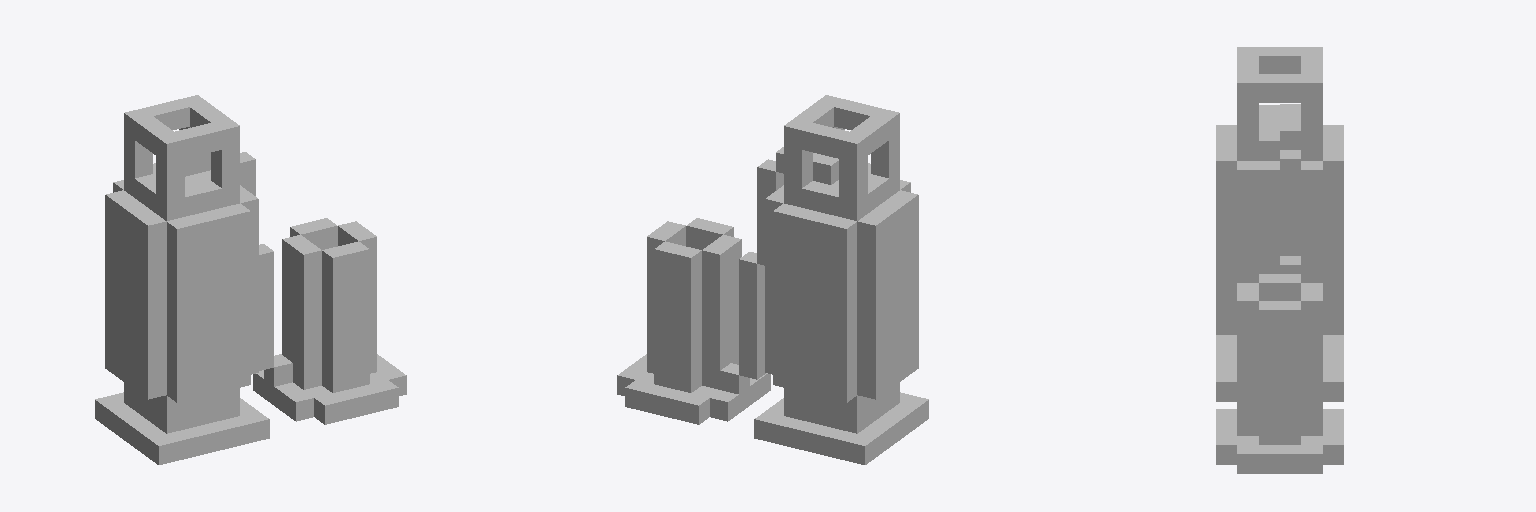
File: hand_air_compressor.obj
3 views of the same model, side by side, from view 1: azimuth 30°, elevation 25°; view 2: azimuth 150°, elevation 25°; view 3: azimuth 270°, elevation 25° (orthographic).
Parts seen in each view (by area): view 1: node_0_0_0; view 2: node_0_0_0; view 3: node_0_0_0.
Part boxes in pixels (left/top/right/bottom): node_0_0_0: left=95, top=95, right=406, bottom=464; node_0_0_0: left=617, top=95, right=928, bottom=464; node_0_0_0: left=1216, top=47, right=1343, bottom=473.
Bounding box in the file's own units: 0.875 × 1 × 0.375.